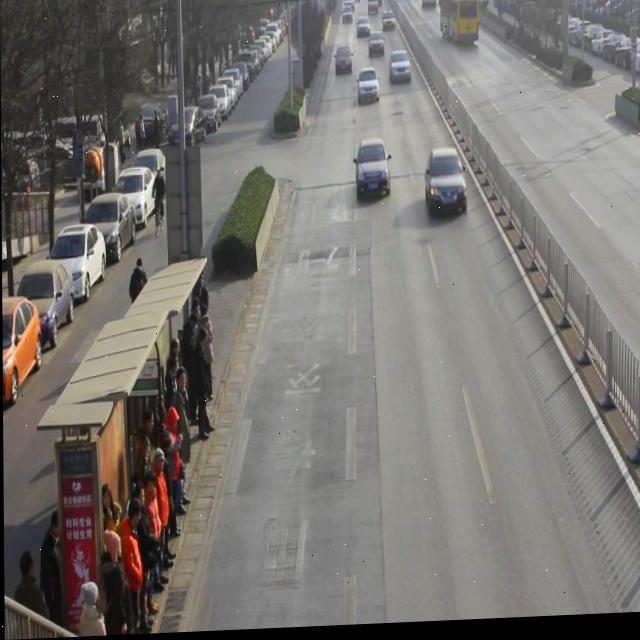car: (425, 150, 468, 222), (357, 140, 391, 203), (358, 70, 381, 107), (390, 52, 413, 88), (336, 46, 354, 79), (369, 31, 385, 60)
